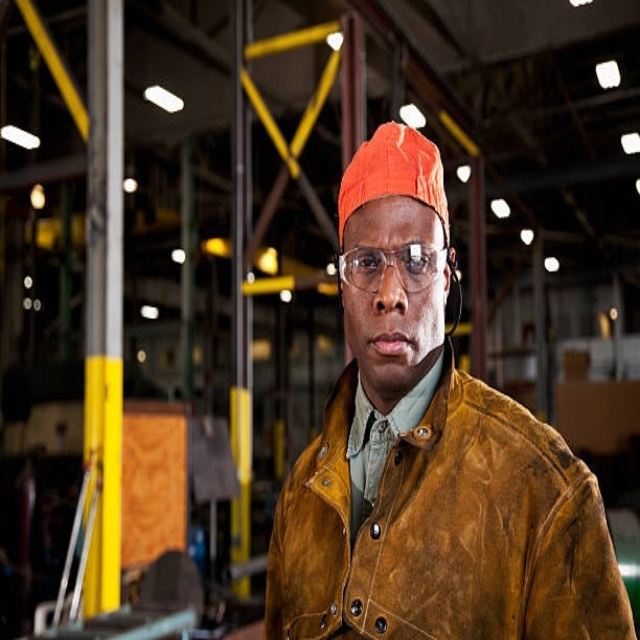Gafas: (338, 243, 450, 293)
Sin_mascara: (364, 320, 418, 375)
